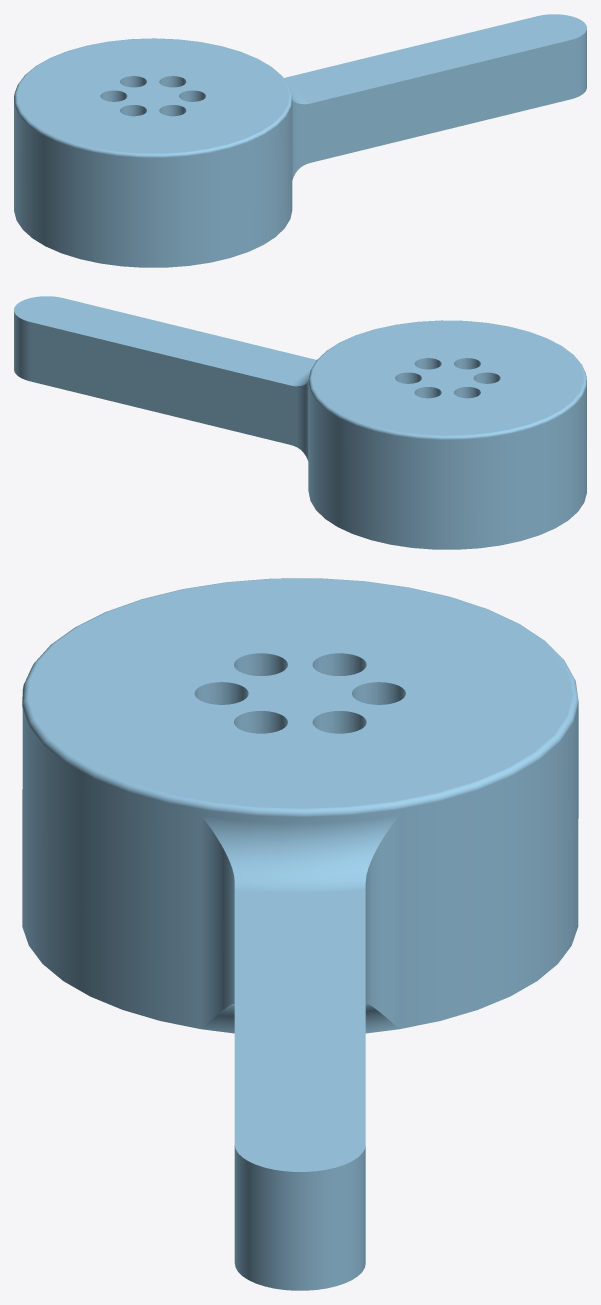
File: EndEffector.dae
The picture shows the model from 3 angles, top to bottom: view 1: azimuth 30°, elevation 25°; view 2: azimuth 150°, elevation 25°; view 3: azimuth 270°, elevation 25°; orthographic projection. The views are drawn at different scales.
Parts seen in each view (by area): view 1: ID2; view 2: ID2; view 3: ID2.
Boxes of the visible parts, x1=… form: ID2: x1=14, y1=14, x2=586, y2=267; ID2: x1=14, y1=296, x2=586, y2=549; ID2: x1=22, y1=578, x2=578, y2=1290.
Size of the model in its own units: 0.1938 by 0.0849 by 0.038.
